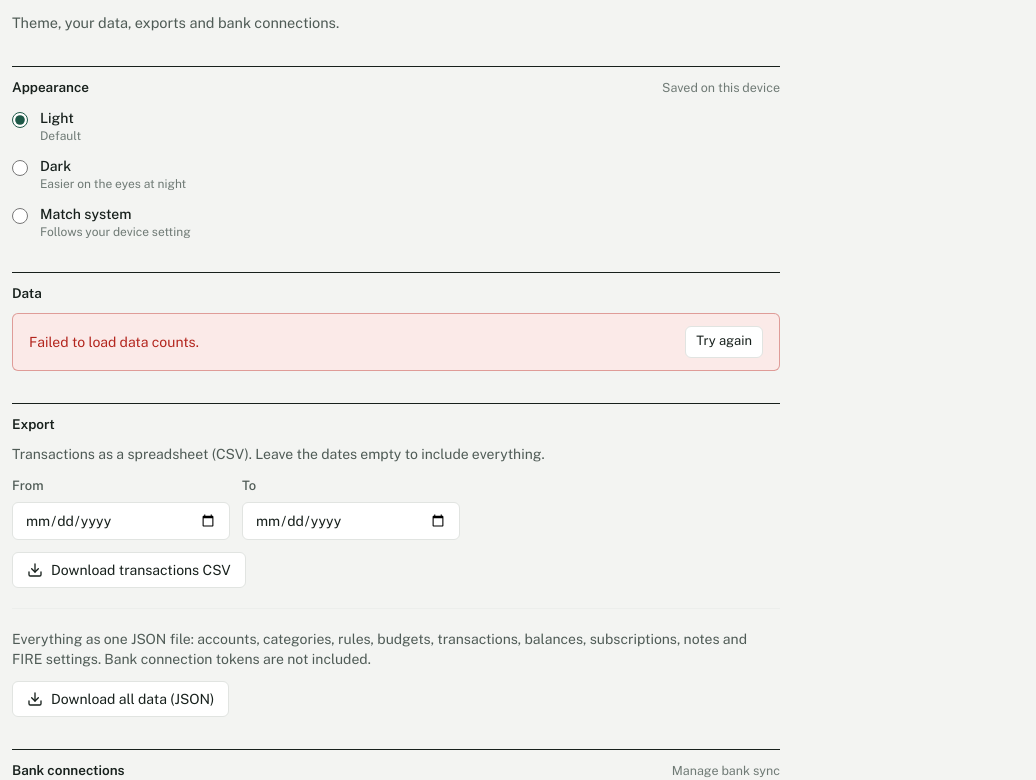
Test: SettingsContent › shows an error with a retry when the counts fail
The image size is (1036, 780).
Expected: the text "Failed to load data counts." is shown, x1=29 y1=332 x2=199 y2=352
Click the button "Try again" at (724, 342), box x1=685 y1=326 x2=763 y2=358
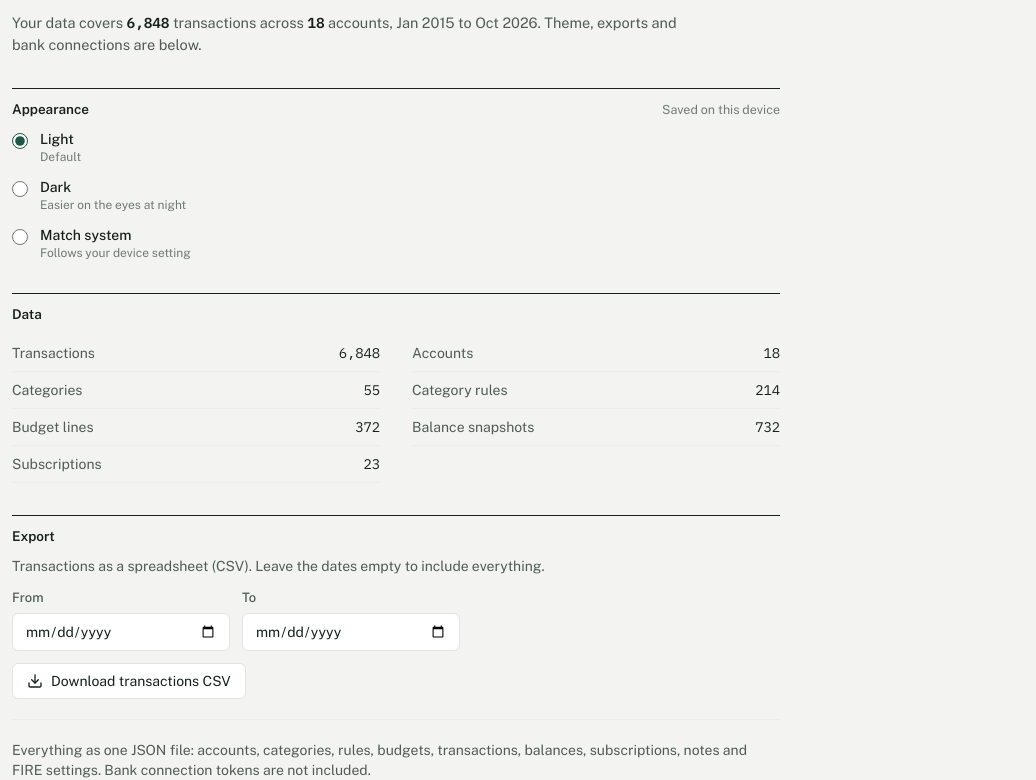
Result: the text "214" is shown at x1=755 y1=380 x2=780 y2=400
